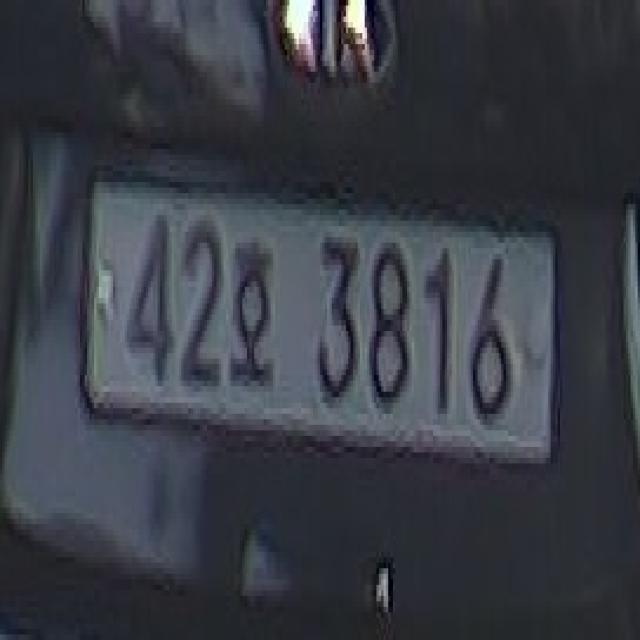plat: (78, 161, 561, 465)
